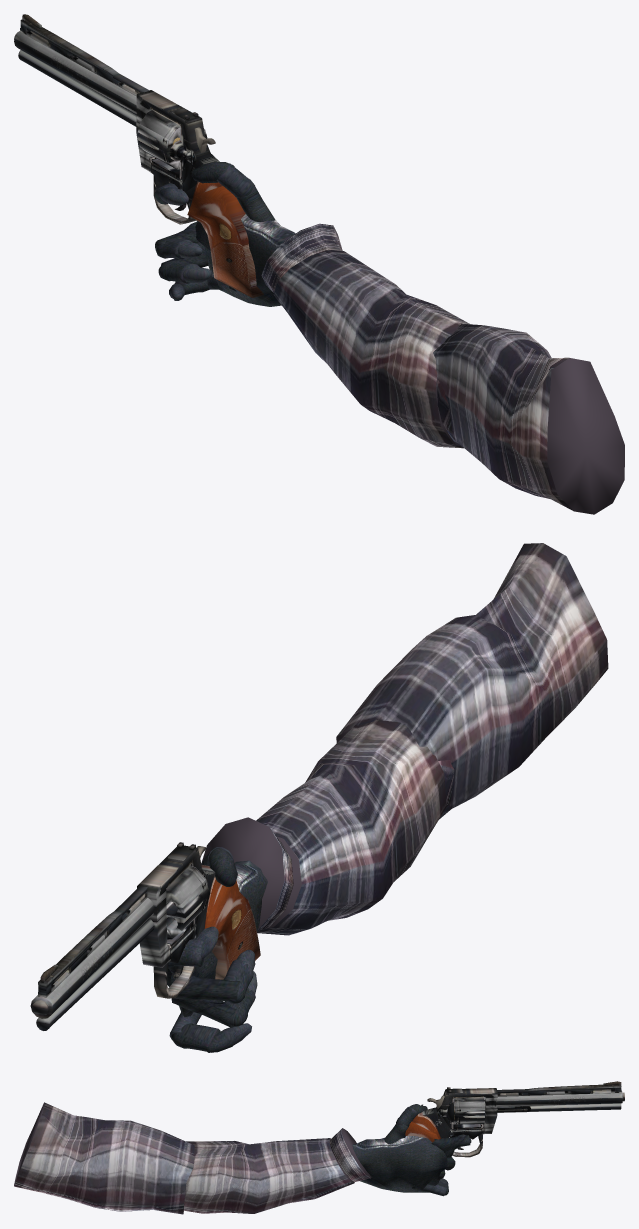
Rendered from python_view.fbx.
The picture shows the model from 3 angles, top to bottom: view 1: azimuth 30°, elevation 25°; view 2: azimuth 150°, elevation 25°; view 3: azimuth 270°, elevation 25°; orthographic projection. The views are drawn at different scales.
Visible parts, largest first — view 1: rupperarm, rforearm, PythonGrip, PythonBarrel, PythonBody, rhand, PythonFrontSight, PythonCylinder, rthumbmiddle, rthumbback; view 2: rupperarm, rforearm, PythonBarrel, PythonBody, PythonGrip, PythonFrontSight, PythonCylinder, rhand, rmfingerback, rifingerback, rpinkymiddle, PythonTriggerGuard (+3 smaller); view 3: rupperarm, rforearm, rhand, PythonBody, PythonBarrel, PythonFrontSight, PythonCylinder, rpfingerback, PythonGrip, rthumbback, rthumbmiddle, PythonTriggerGuard (+1 smaller).
Part boxes in pixels (bbox=[...]): rupperarm: bbox=[433, 323, 624, 514]; rforearm: bbox=[261, 223, 469, 448]; PythonGrip: bbox=[187, 186, 263, 297]; PythonBarrel: bbox=[14, 31, 136, 126]; PythonBody: bbox=[136, 90, 222, 209]; rhand: bbox=[195, 214, 295, 306]; PythonFrontSight: bbox=[20, 14, 149, 96]; PythonCylinder: bbox=[137, 110, 207, 169]; rthumbmiddle: bbox=[216, 163, 255, 197]; rthumbback: bbox=[237, 187, 275, 221]; rupperarm: bbox=[336, 543, 608, 819]; rforearm: bbox=[201, 719, 446, 935]; PythonBarrel: bbox=[30, 898, 154, 1030]; PythonBody: bbox=[137, 846, 222, 967]; PythonGrip: bbox=[206, 880, 260, 979]; PythonFrontSight: bbox=[38, 886, 147, 997]; PythonCylinder: bbox=[166, 865, 210, 939]; rhand: bbox=[167, 860, 267, 1017]; rmfingerback: bbox=[170, 973, 240, 1001]; rifingerback: bbox=[171, 998, 236, 1027]; rpinkymiddle: bbox=[171, 1023, 220, 1052]; PythonTriggerGuard: bbox=[153, 962, 194, 998]; rupperarm: bbox=[14, 1102, 194, 1214]; rforearm: bbox=[183, 1128, 371, 1213]; rhand: bbox=[352, 1136, 448, 1192]; PythonBody: bbox=[412, 1088, 497, 1139]; PythonBarrel: bbox=[494, 1091, 624, 1112]; PythonFrontSight: bbox=[496, 1081, 621, 1096]; PythonCylinder: bbox=[453, 1097, 485, 1124]; rpfingerback: bbox=[431, 1135, 470, 1158]; PythonGrip: bbox=[405, 1121, 438, 1142]; rthumbback: bbox=[384, 1124, 428, 1145]; rthumbmiddle: bbox=[396, 1107, 417, 1126]; PythonTriggerGuard: bbox=[452, 1134, 482, 1157].
Size of the model in its own units: 5.15 by 7.03 by 34.21.
3 materials, 3 textured.
